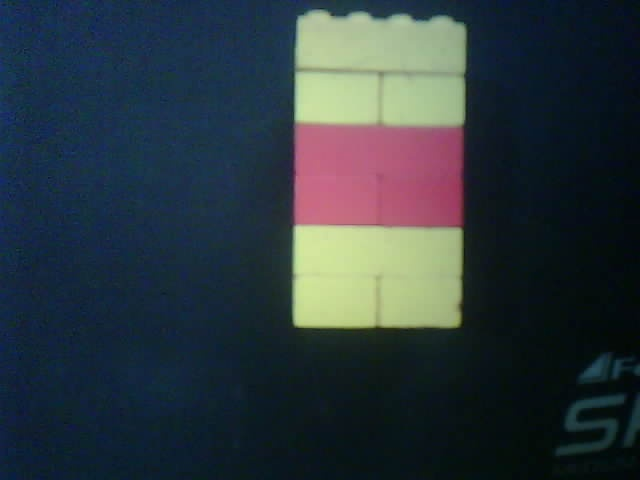lego: (287, 9, 468, 336)
